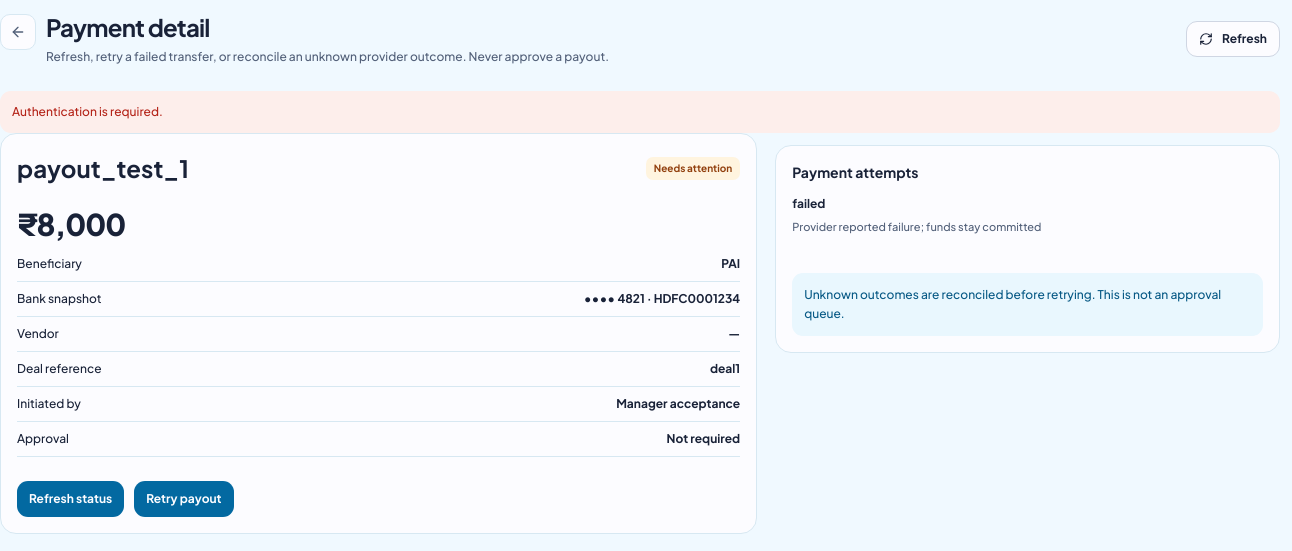
Scenario: A13 retries a failed payout and never offers approve
Expected: the heading "Payment detail" is shown, [46,12,210,42]
Click the button "Retry payout": (184, 499) [134,481,234,517]
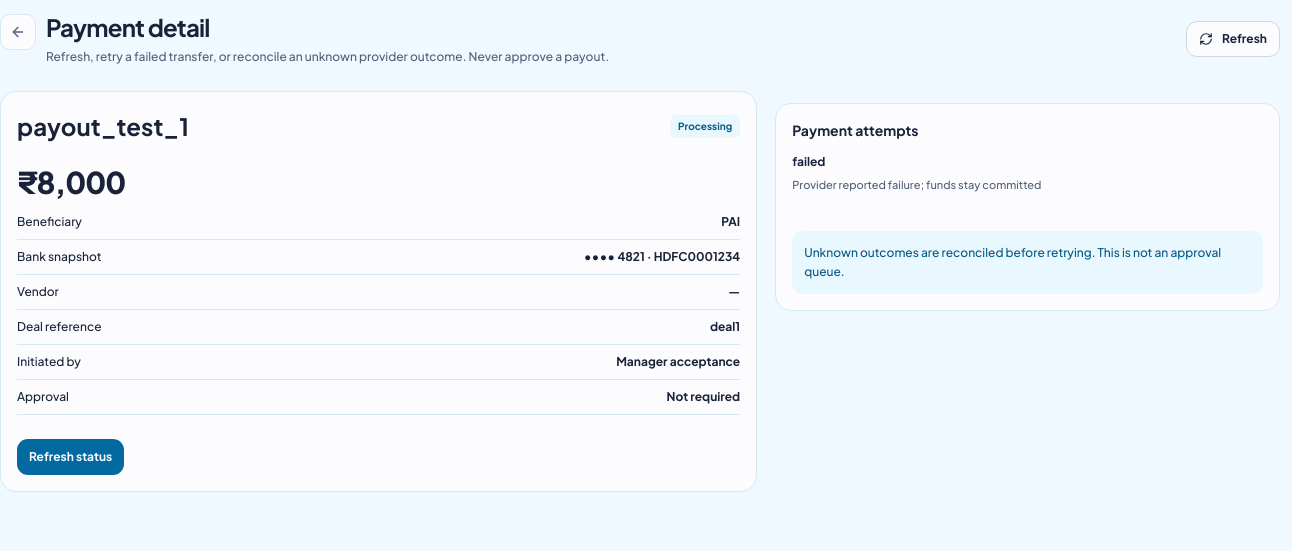
Expected: the text "Processing" is shown, [670,115,740,138]
